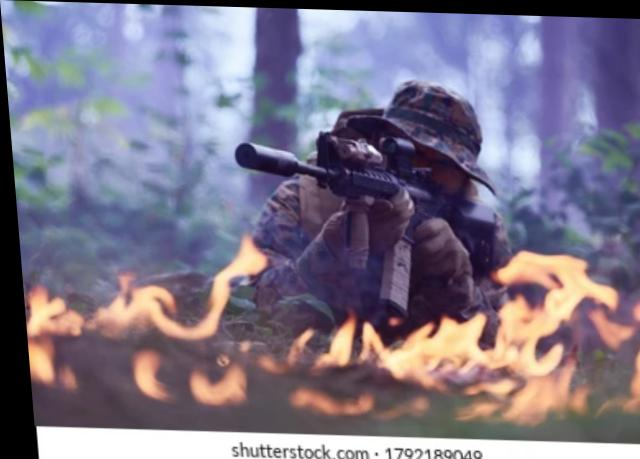other: (240, 85, 511, 317)
